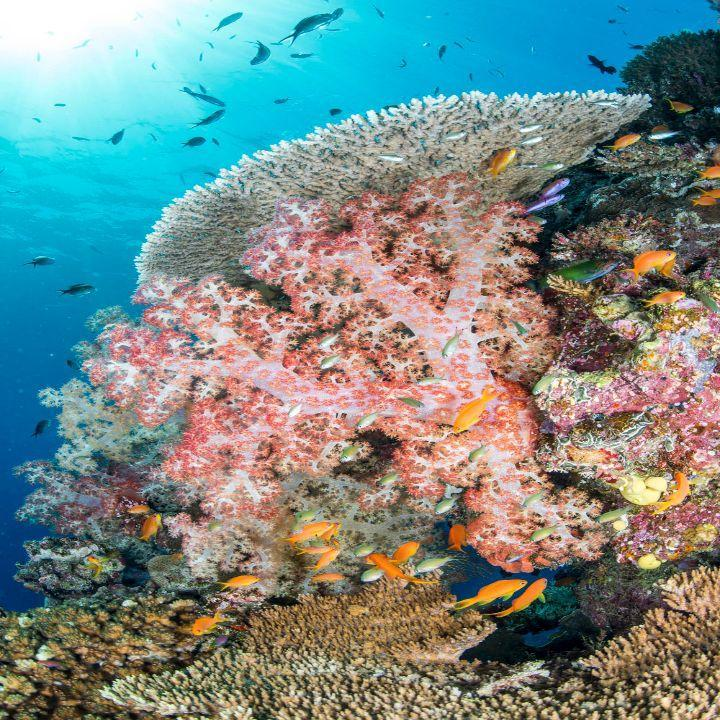Healthy Coral: (92, 90, 699, 692)
